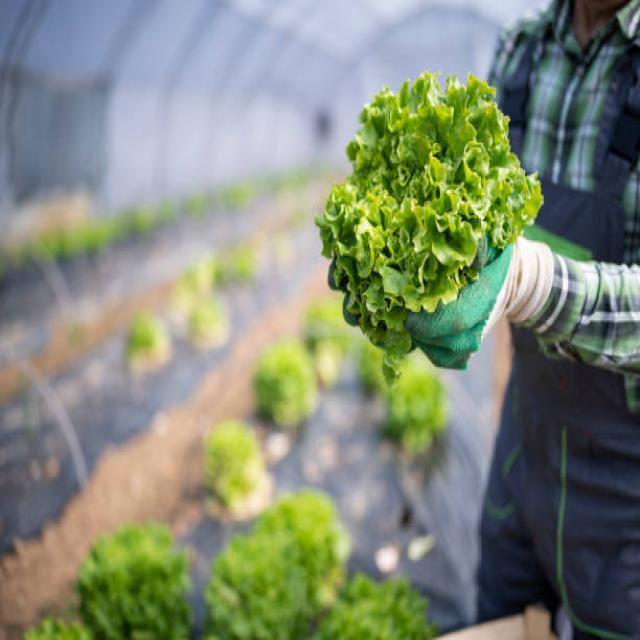Lettuce-Ready-to-Harvest: (314, 73, 545, 378), (78, 525, 192, 640), (209, 531, 314, 640), (313, 575, 435, 640), (258, 343, 321, 435), (384, 369, 450, 451), (207, 421, 256, 497)
